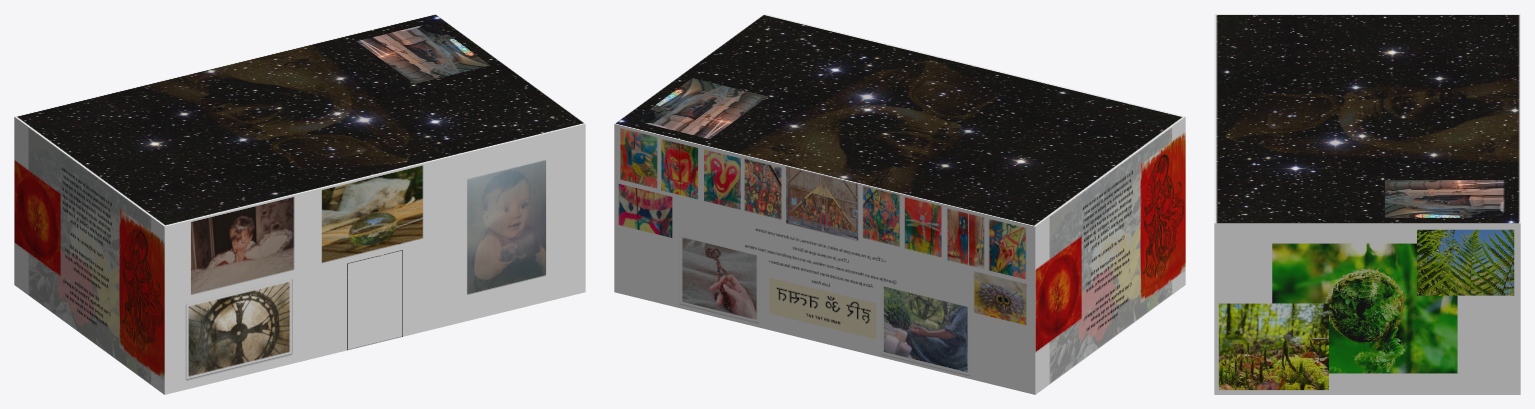
File: 1778447478823_pealoun.glb
The picture shows the model from 3 angles, left to right: view 1: azimuth 30°, elevation 25°; view 2: azimuth 150°, elevation 25°; view 3: azimuth 270°, elevation 25°; orthographic projection.
Visible parts, largest first — view 1: Pealoun; view 2: Pealoun; view 3: Pealoun.
Boxes of the visible parts, <box> form: Pealoun: <box>14,14,585,394</box>; Pealoun: <box>614,14,1185,394</box>; Pealoun: <box>1214,14,1520,394</box>.
Bounding box in the file's own units: 1.62 × 0.618 × 1.
6 materials, 6 textured.
